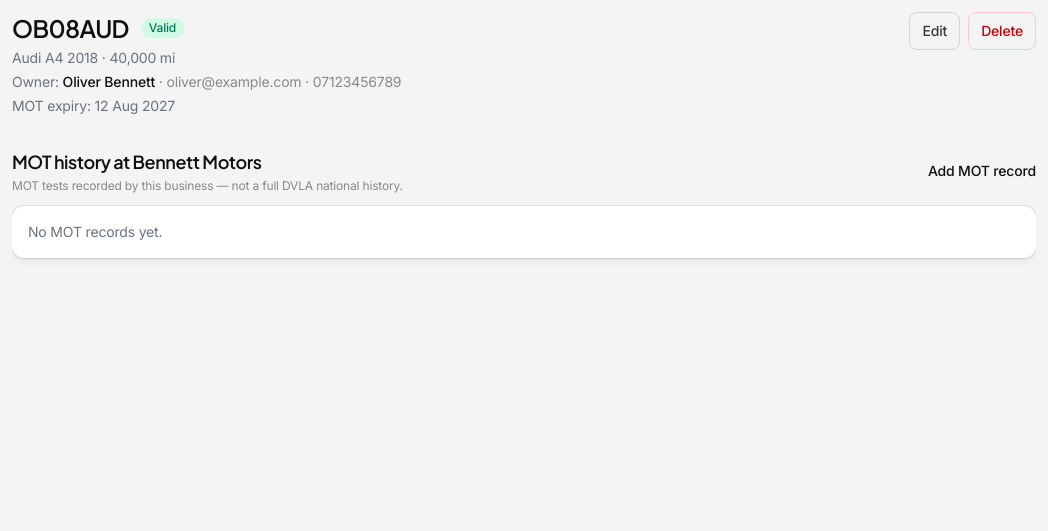
Test: VehicleDetail — adding an MOT record › opens and closes the record form
The image size is (1048, 531).
Check: the heading "OB08AUD" is shown, box [12, 12, 129, 44]
Click the button "Add MOT record" at coordinates (982, 171), box [928, 161, 1036, 181]
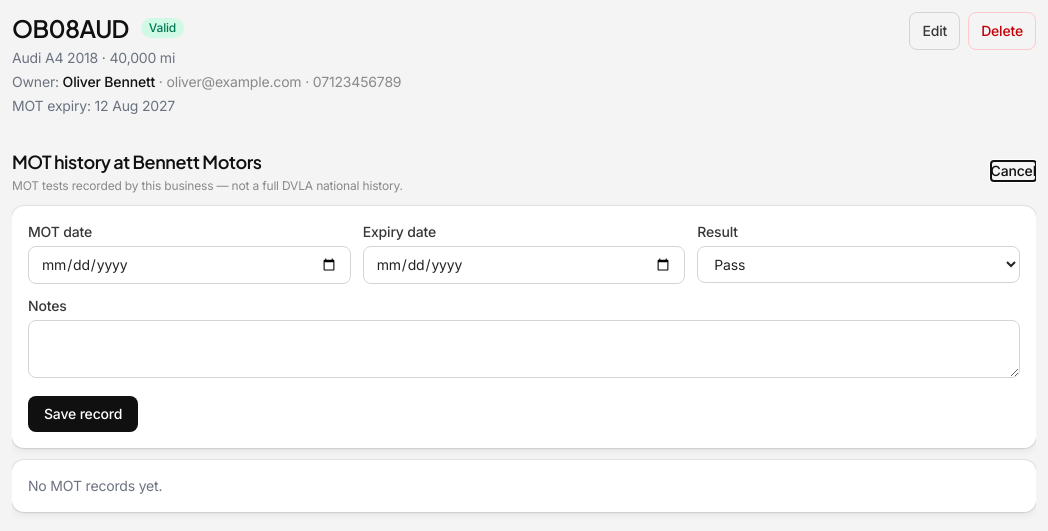
Check: the date field labelled "MOT date" is shown, box [28, 246, 351, 284]
Click the button "Cancel" at coordinates (1013, 171), box [991, 161, 1036, 181]
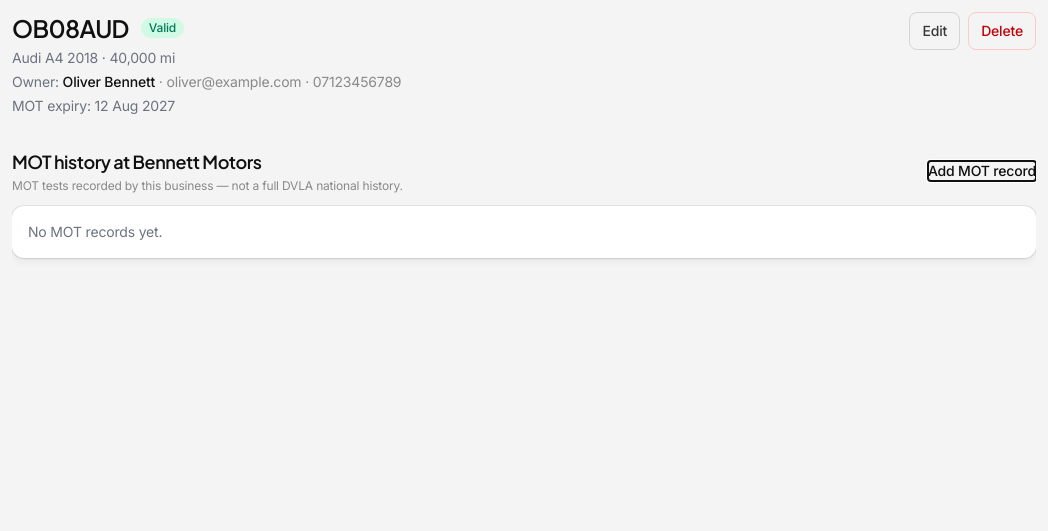
Check: the label labelled "MOT date" is gone
